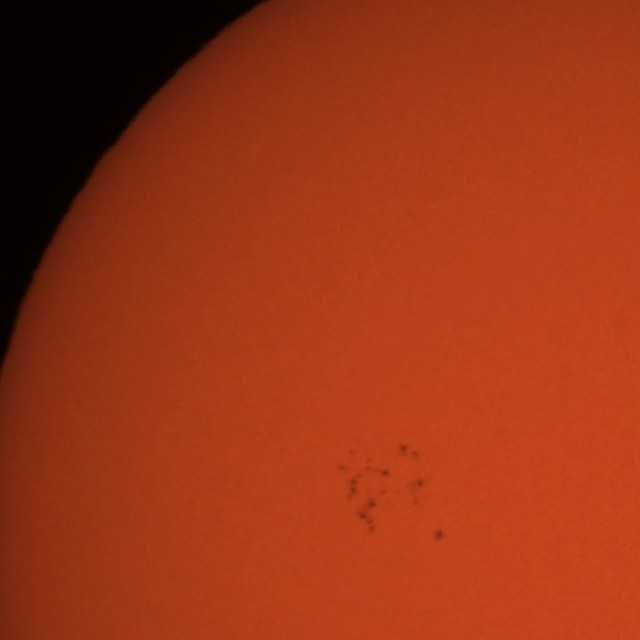sunspot: (336, 452, 398, 516), (346, 471, 388, 528), (352, 489, 380, 538), (408, 476, 427, 507), (396, 442, 420, 462), (431, 528, 446, 544)
